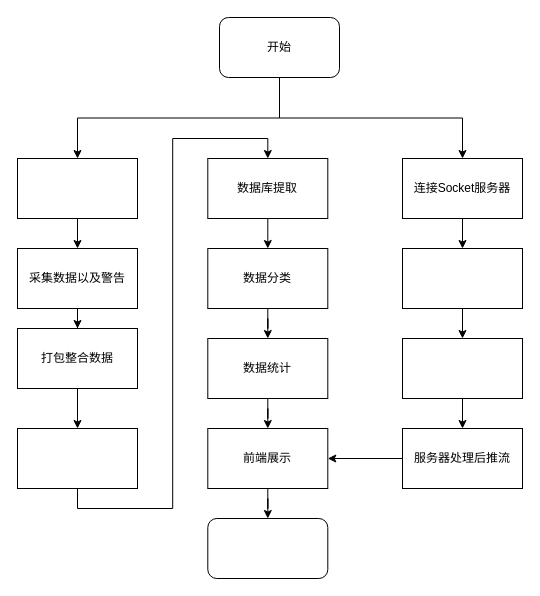
Image size: 540x596. Some labels were removed from this diagram. The shapes that lost their labels are listed below. From the top down, each one's centre as x and y in pixels, then its label:
the point at 77,188: 连接MQTT服务器以及数据库
the point at 462,278: 获取摄像头视频
the point at 462,368: 向服务器转发视频
the point at 77,458: 推送至云平台以及数据库
the point at 267,548: 结束
